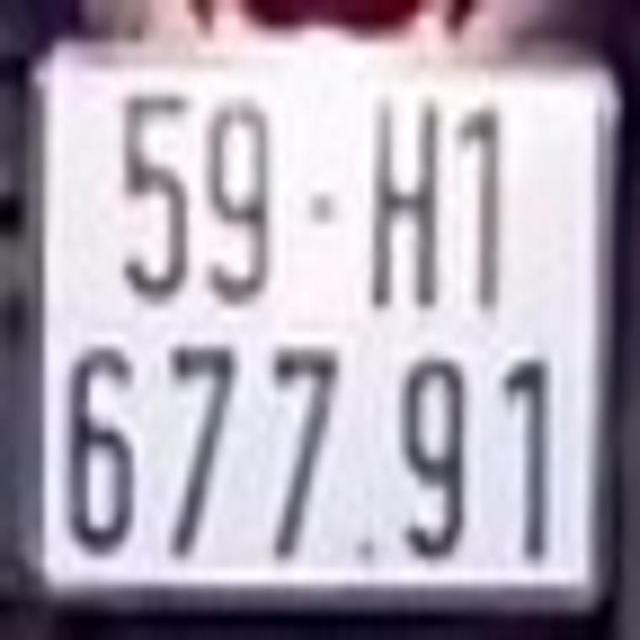1: (459, 95, 504, 314), (507, 357, 552, 566)
5: (122, 89, 192, 296)
6: (67, 347, 137, 548)
7: (158, 338, 235, 554), (273, 352, 338, 546)
9: (211, 93, 273, 300), (406, 357, 469, 554)
H: (369, 93, 444, 310)
